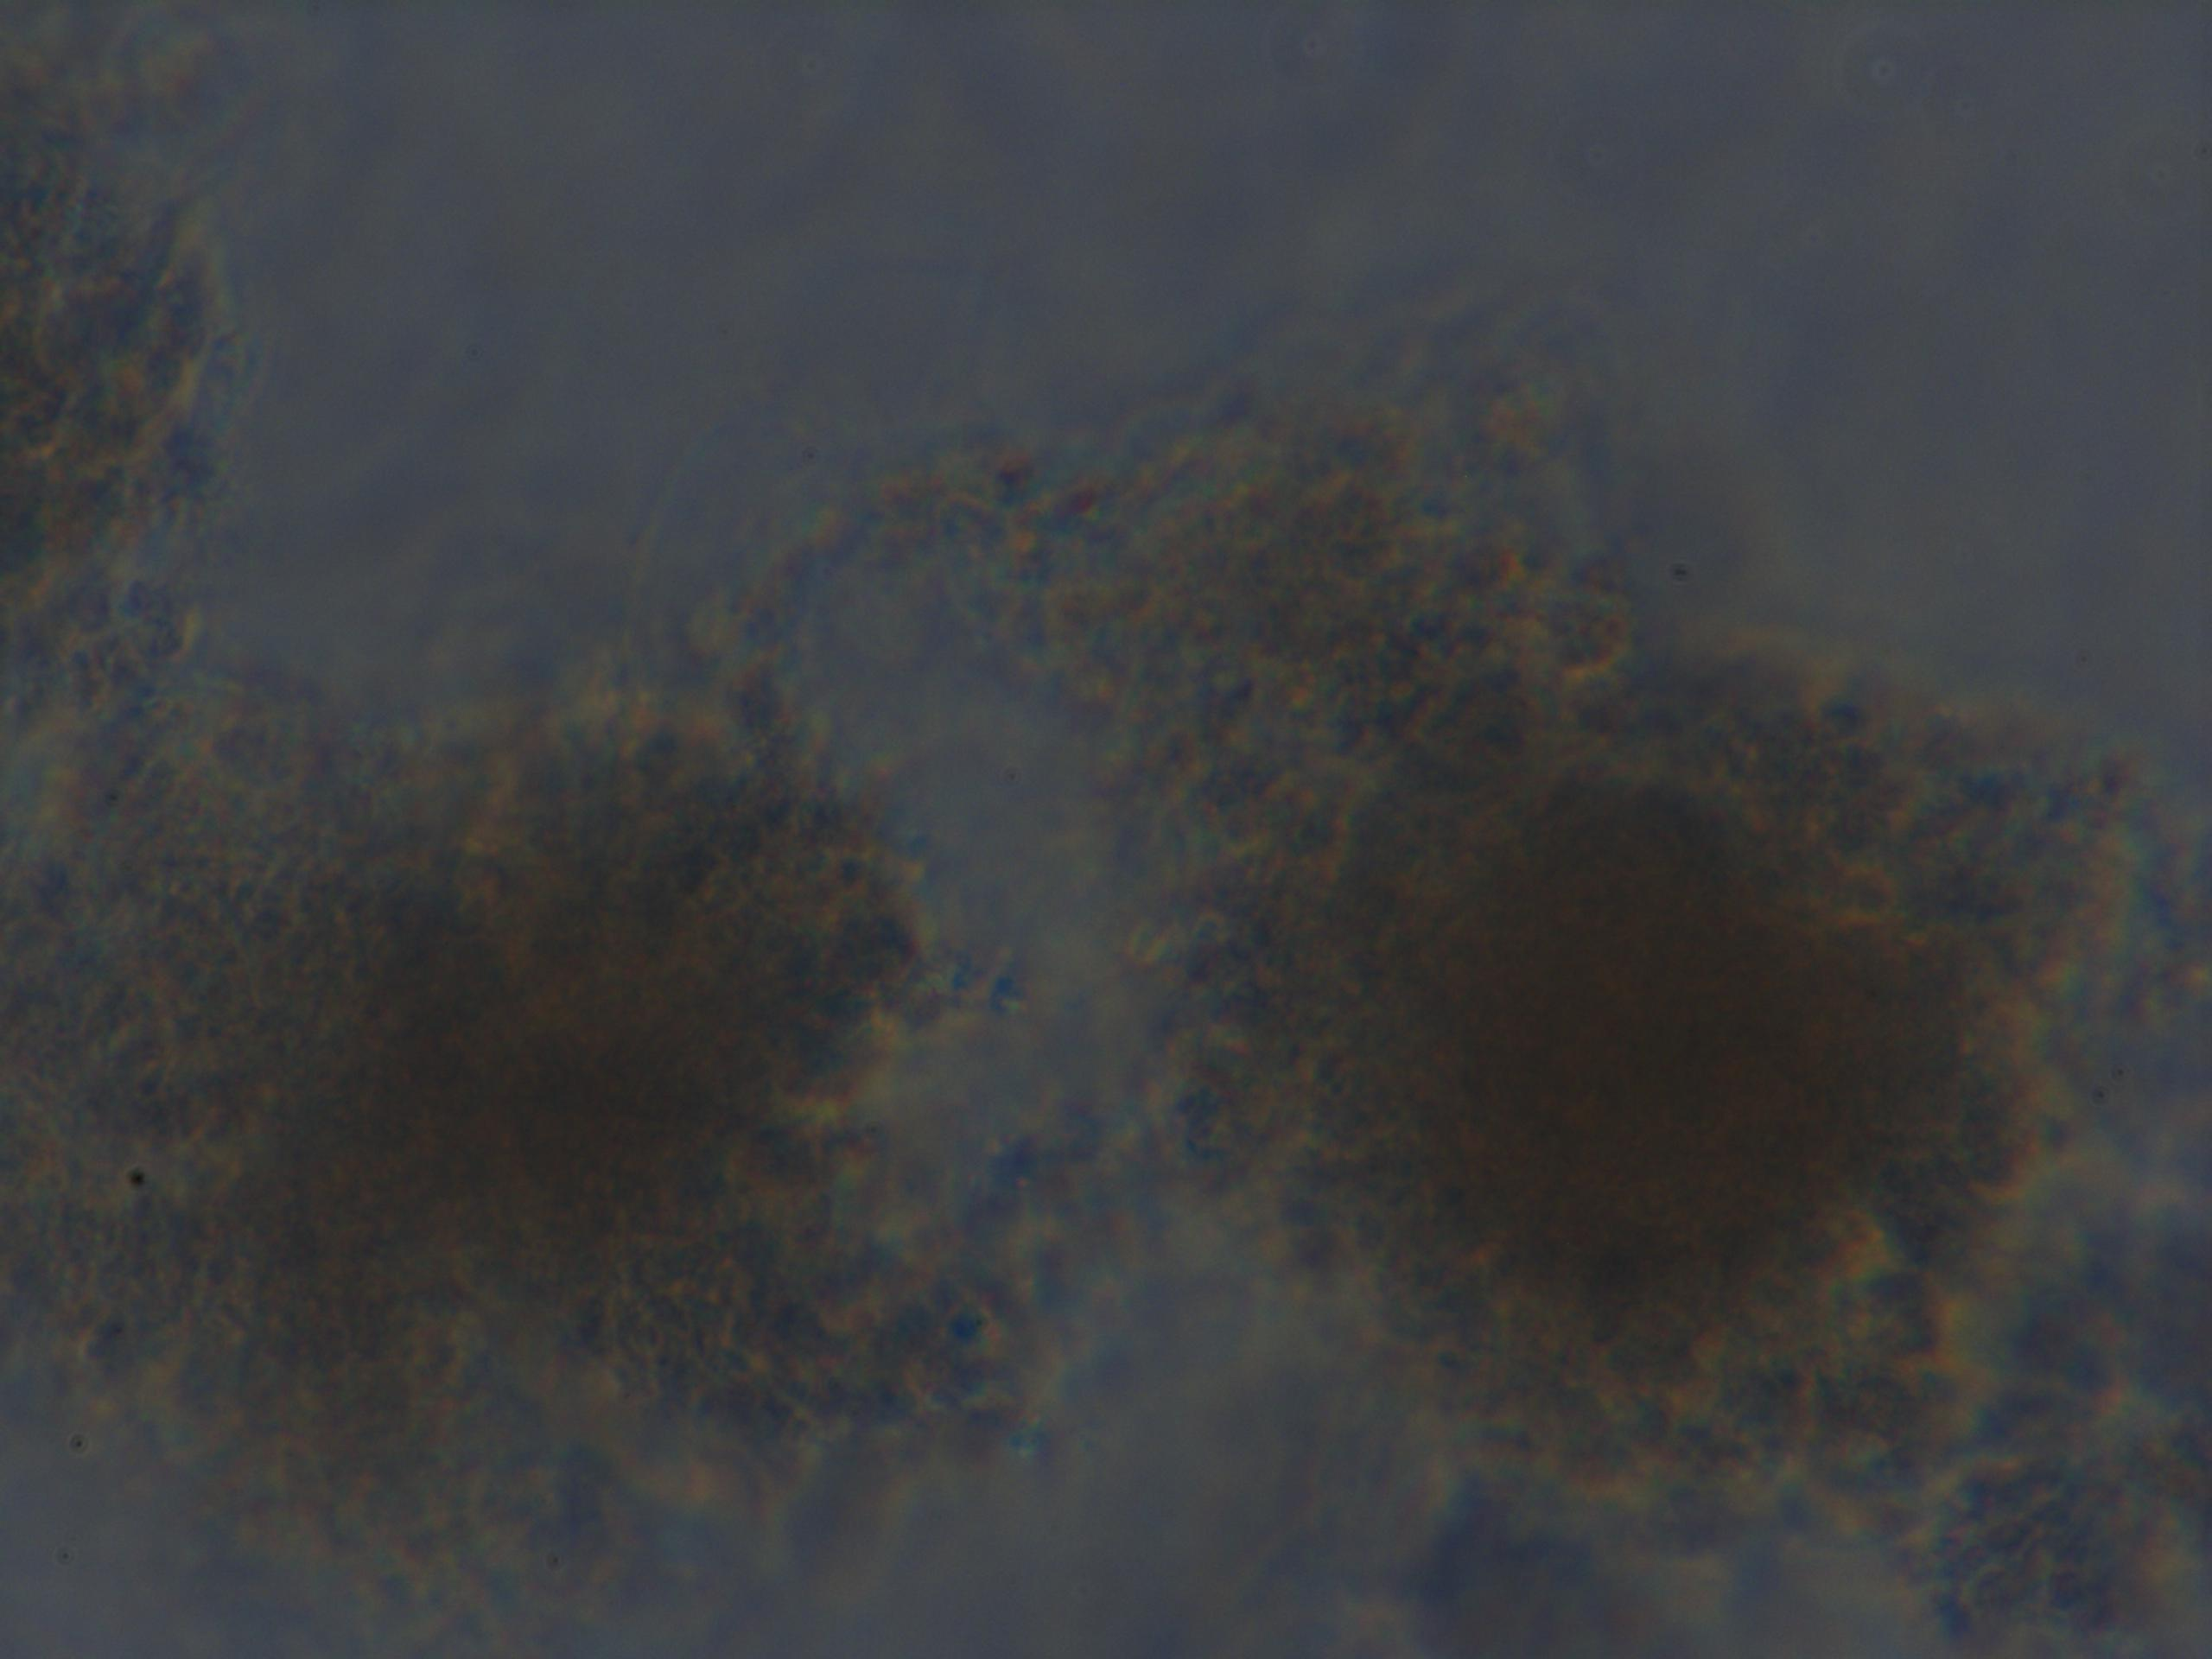spherical_floc: (1191, 619, 2101, 1486)
